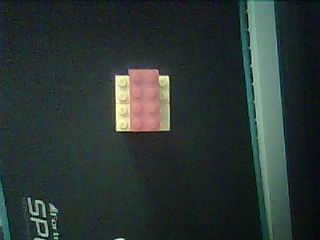lego: (115, 69, 171, 132)
